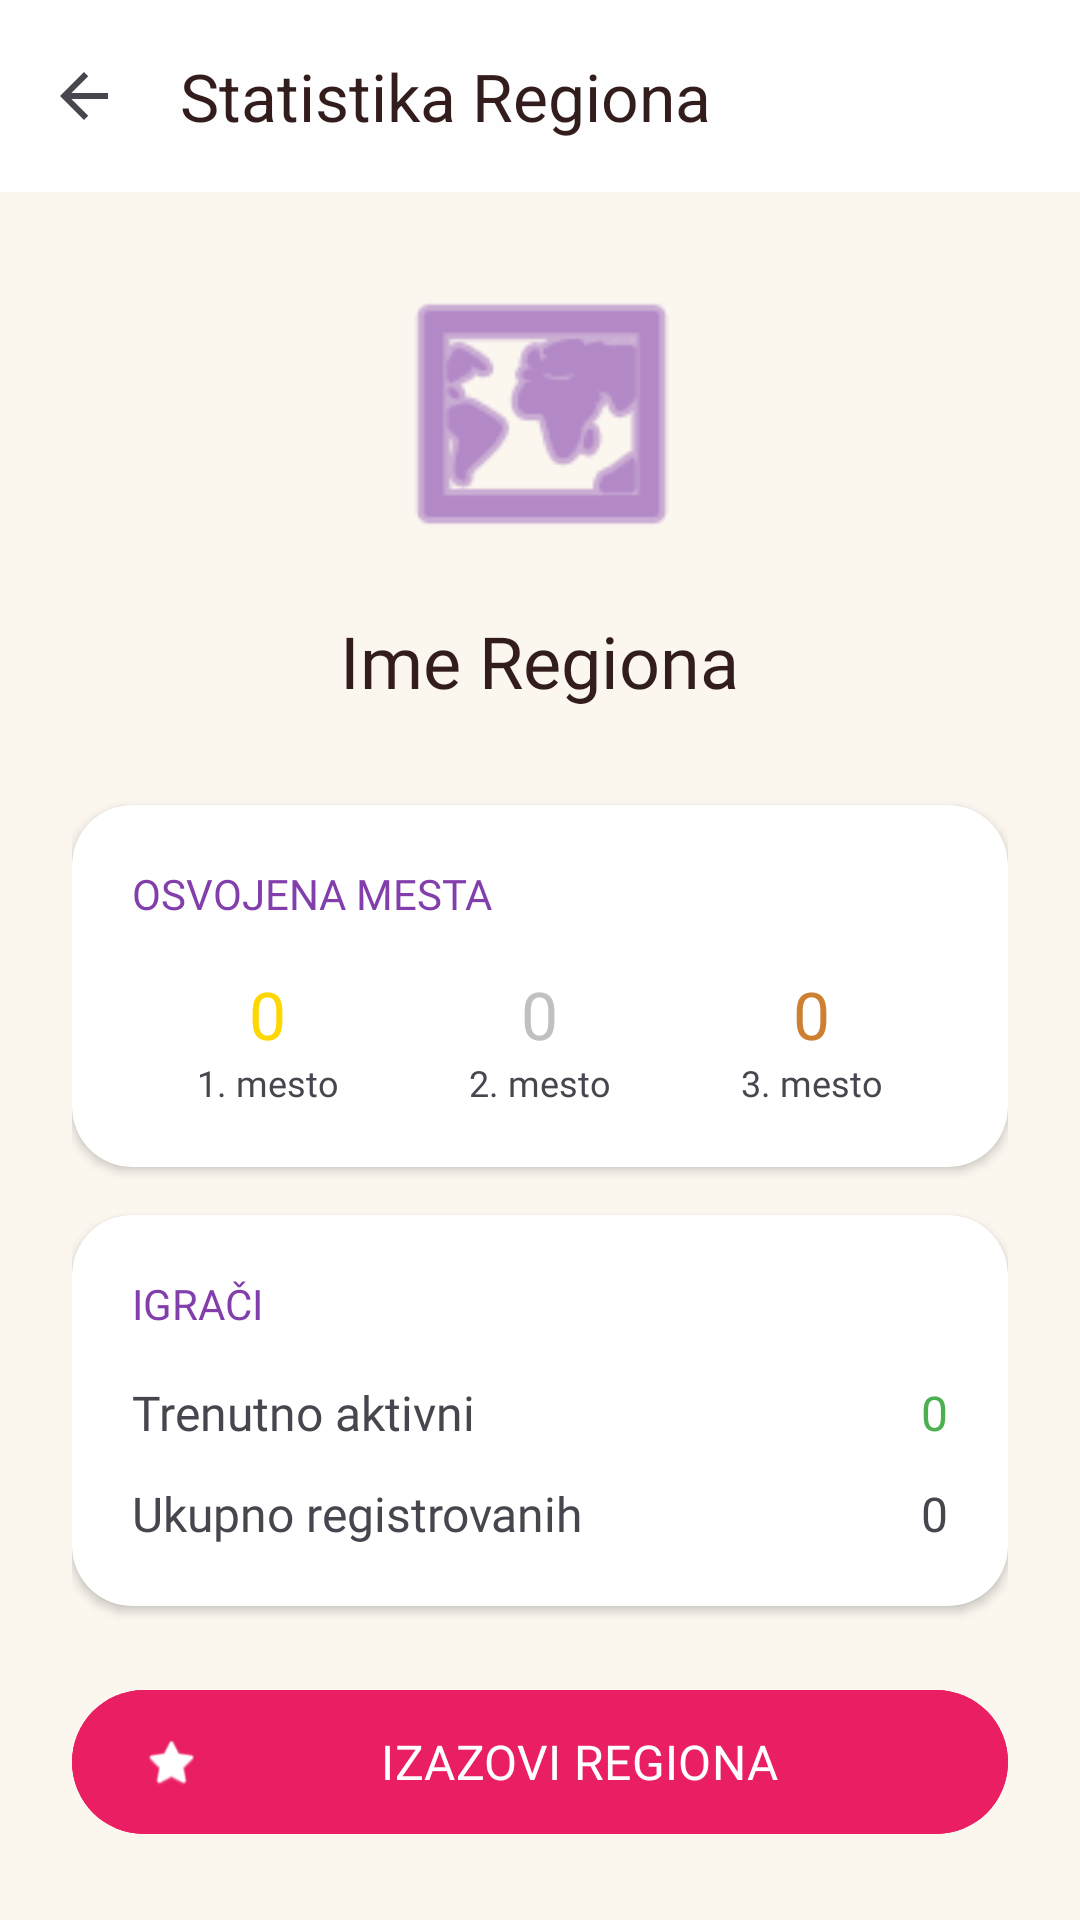

Icon bounding boxes for this 1080 × 1920 phone screenshot, format [left=x1, top=y1, right=x2, bottom=y2]:
mapmode: [left=417, top=304, right=666, bottom=524]
